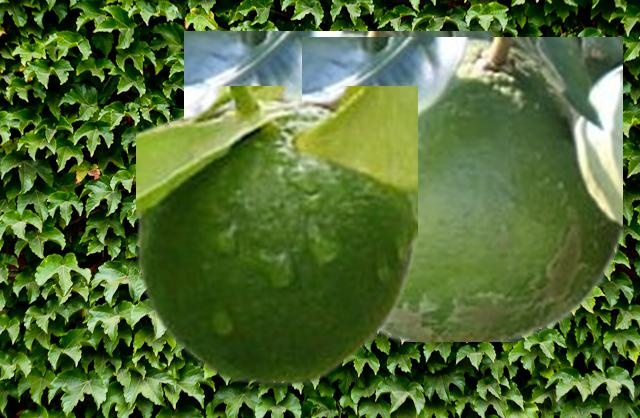dalandan: (302, 37, 621, 340), (136, 86, 416, 384), (184, 31, 490, 112)
